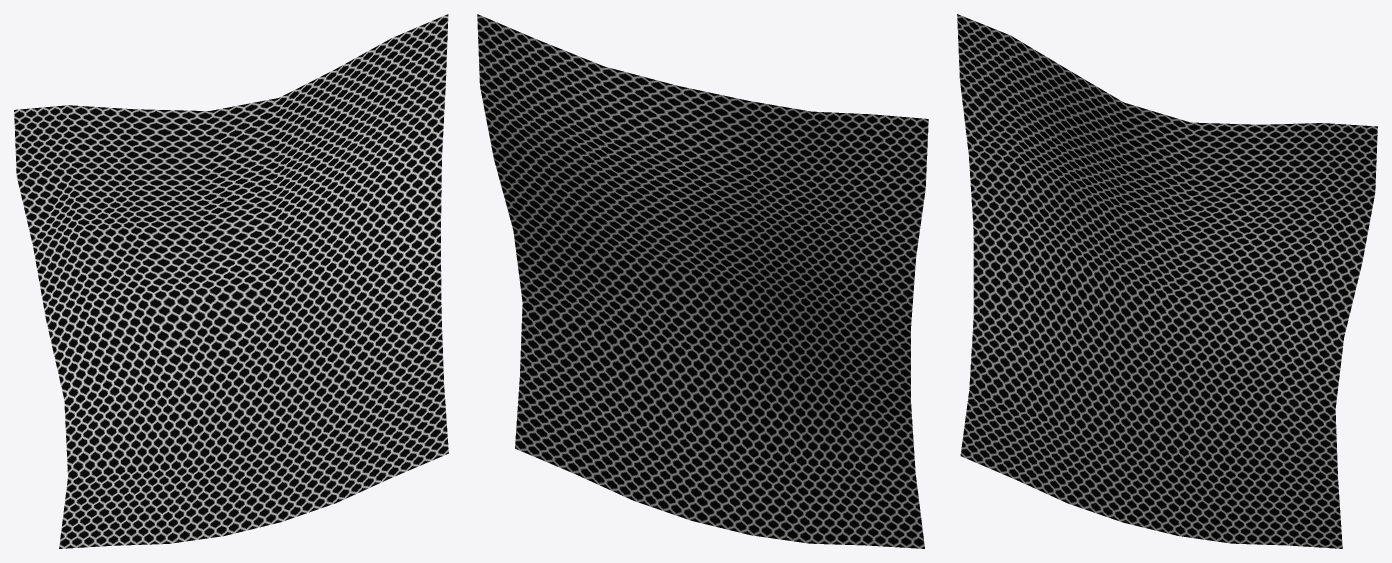
File: RopoNet.fbx
3 views of the same model, side by side, from view 1: azimuth 30°, elevation 25°; view 2: azimuth 150°, elevation 25°; view 3: azimuth 330°, elevation 25° (orthographic). The views are drawn at different scales.
Visible parts, largest first — view 1: Plane; view 2: Plane; view 3: Plane.
Part boxes in pixels (<box>): Plane: <box>14,14,448,548</box>; Plane: <box>477,14,928,548</box>; Plane: <box>957,14,1377,548</box>.
Size of the model in its own units: 217 by 220 by 18.23.
